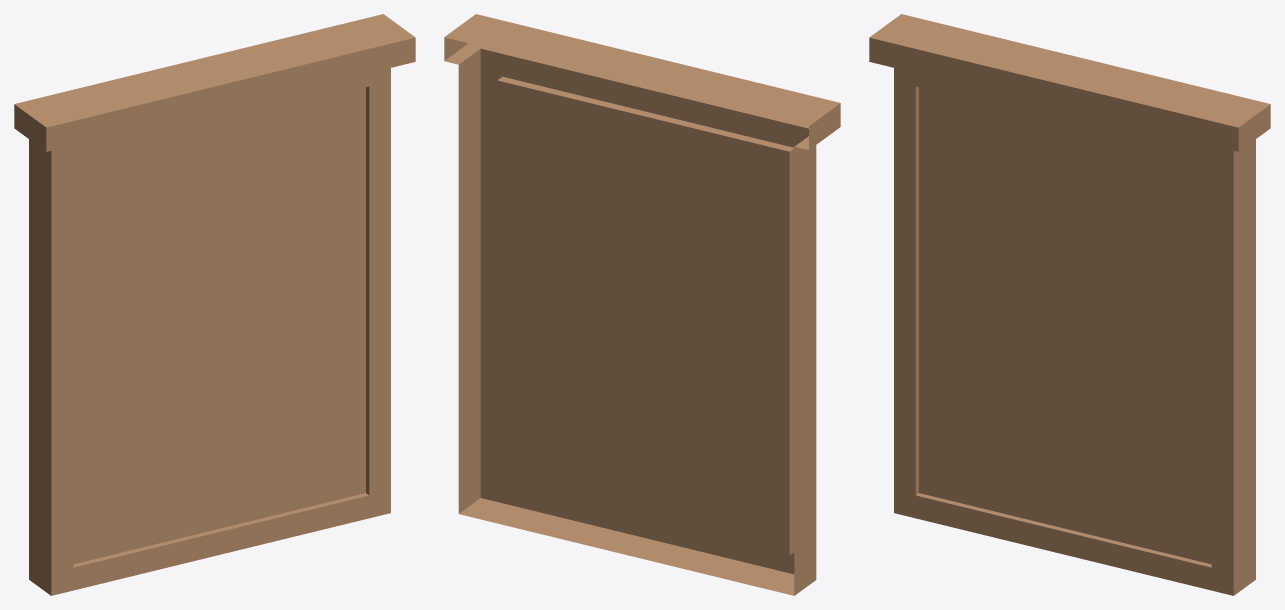
Rendered from Village_Window_B.fbx.
3 views of the same model, side by side, from view 1: azimuth 30°, elevation 25°; view 2: azimuth 150°, elevation 25°; view 3: azimuth 330°, elevation 25° (orthographic).
Visible parts, largest first — view 1: Window_Set_B2.023; view 2: Window_Set_B2.023; view 3: Window_Set_B2.023.
Part boxes in pixels (x1=…): Window_Set_B2.023: x1=14, y1=14, x2=415, y2=595; Window_Set_B2.023: x1=444, y1=14, x2=840, y2=595; Window_Set_B2.023: x1=869, y1=14, x2=1270, y2=595.
Bounding box in the file's own units: 65.19 × 80.83 × 9.85.
